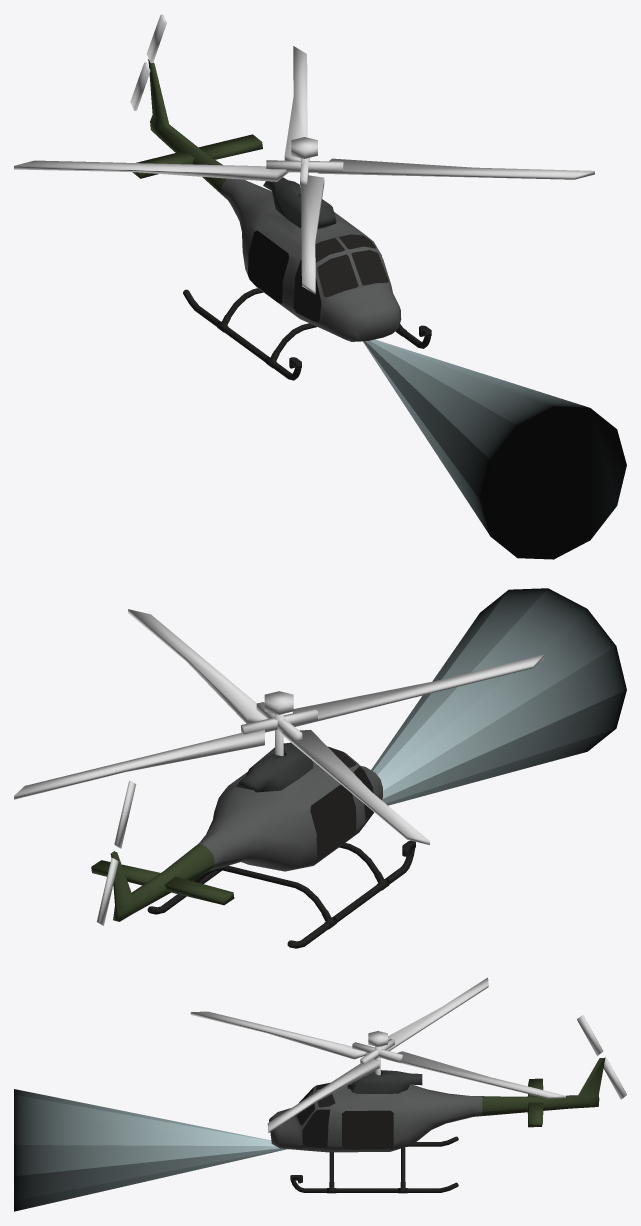
The model's file is chopter.fbx.
3 views of the same model, one above another, from view 1: azimuth 30°, elevation 25°; view 2: azimuth 150°, elevation 25°; view 3: azimuth 270°, elevation 25° (orthographic). The views are drawn at different scales.
Visible parts, largest first — view 1: Cone, body, hlix, back; view 2: Cone, body, hlix, back; view 3: Cone, body, hlix, back.
Boxes of the visible parts, x1,y1,x2,y2 form: Cone: (363,339,626,559); body: (132,59,431,380); hlix: (14,46,594,294); back: (130,14,166,110); Cone: (371,588,626,805); body: (91,742,415,948); hlix: (14,609,544,844); back: (96,780,136,925); Cone: (14,1089,287,1211); body: (269,1057,605,1193); hlix: (190,977,565,1132); back: (577,1015,626,1099).
Bounding box in the file's own units: 1919 × 1108 × 3241.
